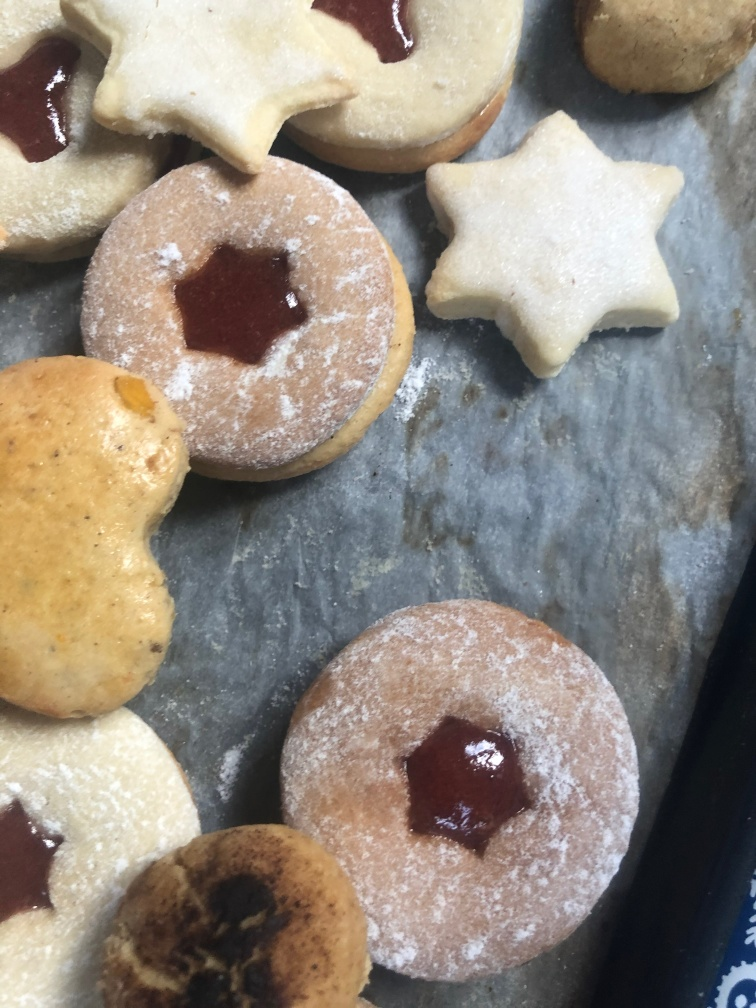christmas shortbread with jam: (279, 599, 638, 983), (81, 149, 413, 479), (1, 707, 198, 1007), (288, 1, 528, 180), (6, 1, 129, 271)
snowball: (108, 820, 368, 1008)
star: (421, 108, 682, 382), (58, 1, 375, 178)
